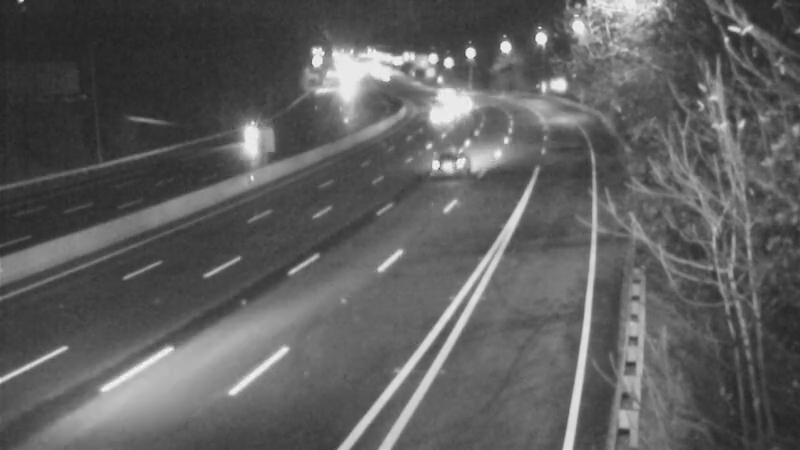vehicle: (409, 123, 489, 203), (418, 66, 468, 116), (429, 74, 479, 124), (414, 89, 464, 139), (226, 112, 276, 162)
